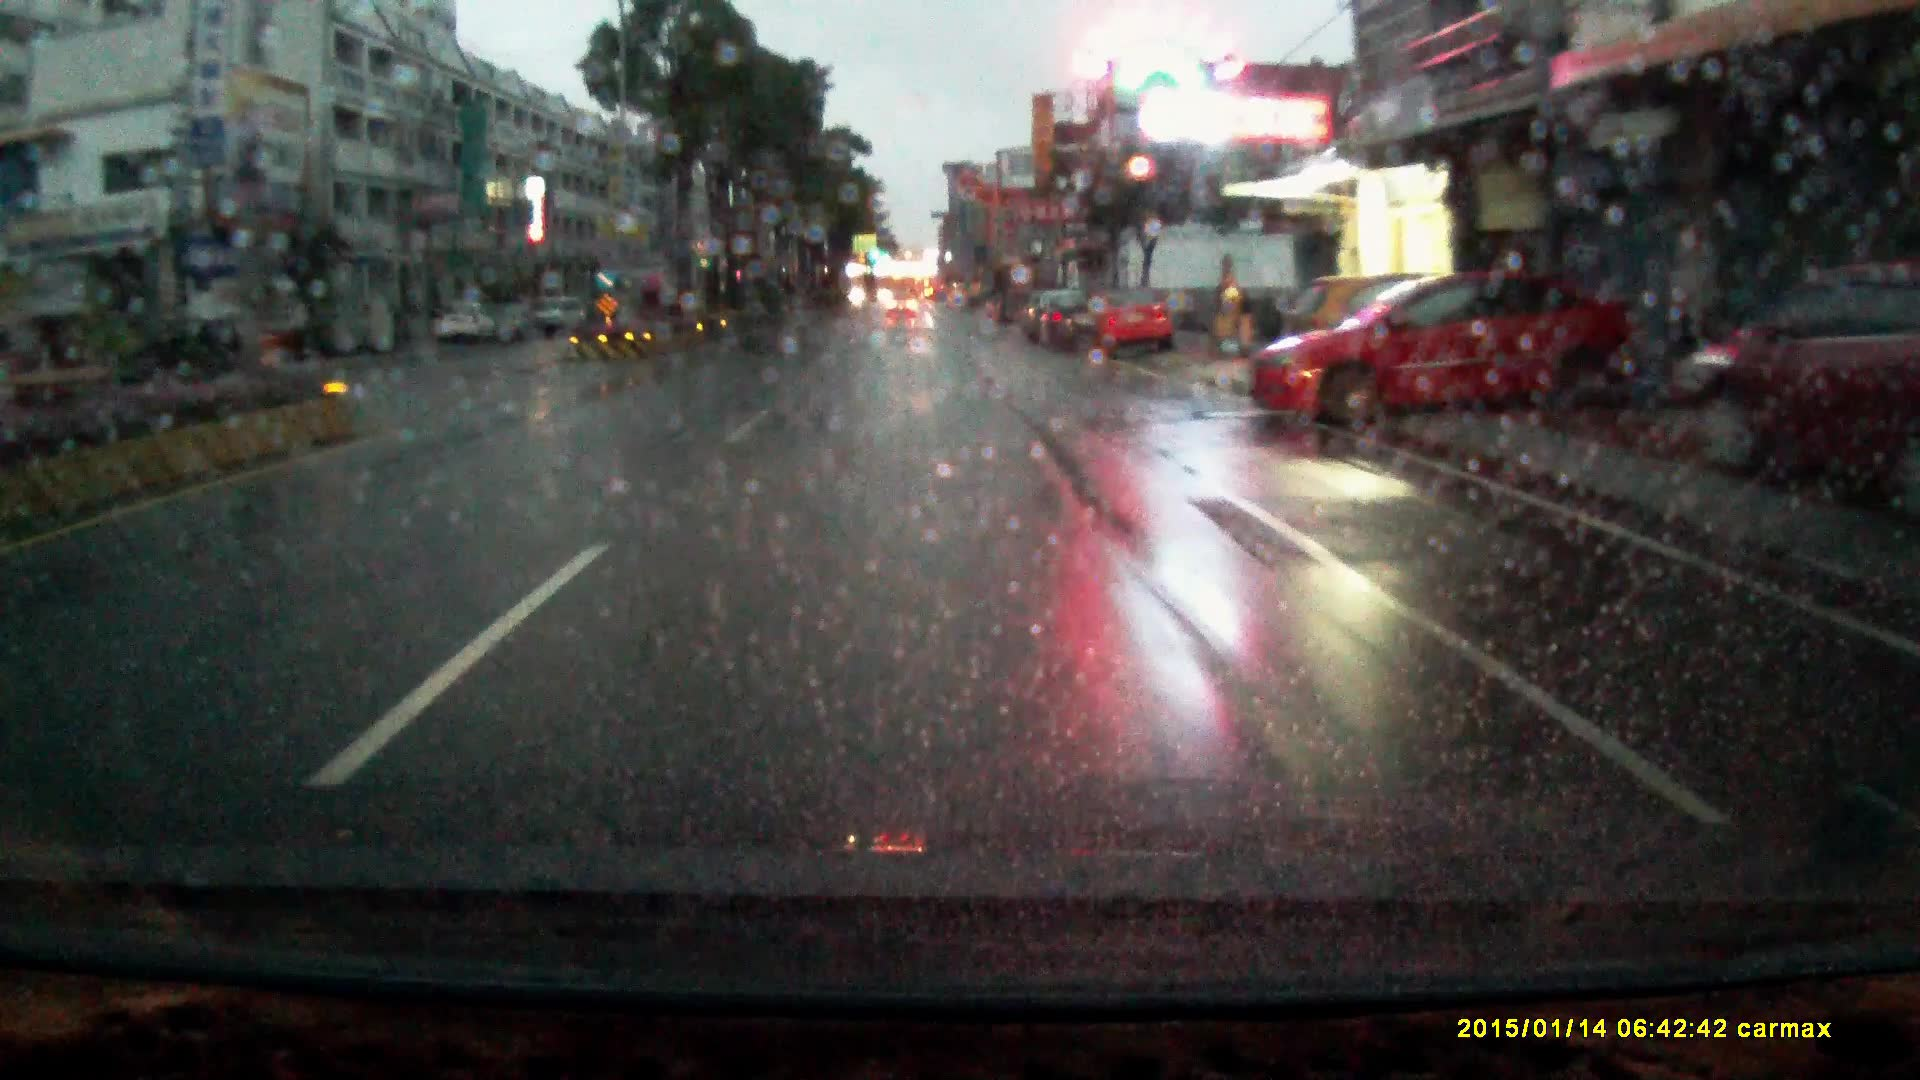vehicle: (1253, 272, 1654, 433), (1084, 291, 1180, 363), (1034, 291, 1102, 356), (438, 298, 496, 348), (530, 298, 589, 339), (886, 295, 918, 323)
